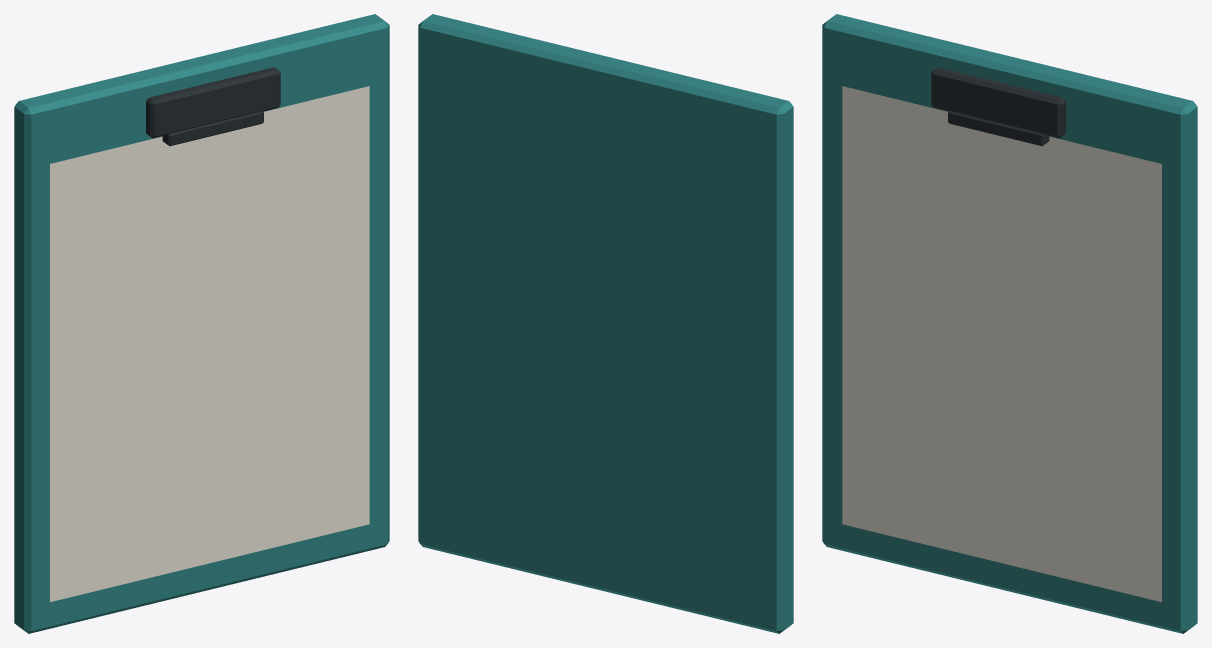
The model's file is professor_clipboard.glb.
3 renders of one model, left to right at view 1: azimuth 30°, elevation 25°; view 2: azimuth 150°, elevation 25°; view 3: azimuth 330°, elevation 25°, orthographic.
Visible parts, largest first — view 1: clipboard_paper, clipboard_board, clipboard_clip; view 2: clipboard_board; view 3: clipboard_paper, clipboard_board, clipboard_clip.
Boxes of the visible parts, x1,y1,x2,y2 form: clipboard_paper: (50, 86, 369, 602); clipboard_board: (14, 14, 389, 633); clipboard_clip: (146, 67, 280, 146); clipboard_board: (418, 14, 793, 633); clipboard_paper: (842, 86, 1161, 602); clipboard_board: (822, 14, 1197, 633); clipboard_clip: (931, 67, 1065, 146).
Size of the model in its own units: 0.24 by 0.33 by 0.0255.
